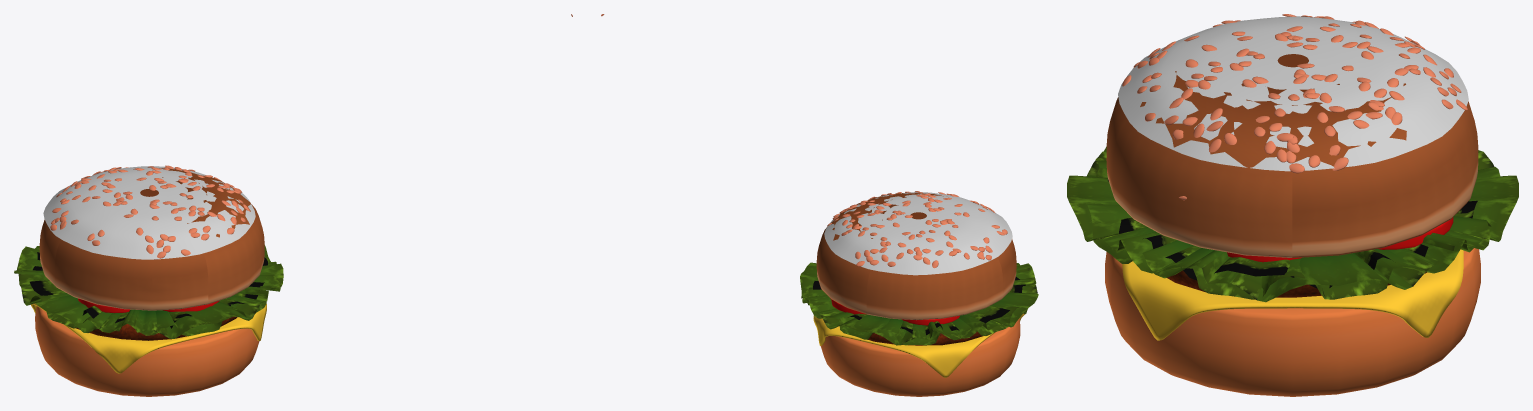
The model's file is hamburguerFinal.fbx.
3 renders of one model, left to right at view 1: azimuth 30°, elevation 25°; view 2: azimuth 150°, elevation 25°; view 3: azimuth 270°, elevation 25°, orthographic. The views are drawn at different scales.
Parts seen in each view (by area): view 1: top, topping_particle, buttom, veg.002, veg, chesse, veg.001, meat; view 2: top, topping_particle, buttom, veg.002, veg, chesse, veg.001, meat, totato; view 3: top, topping_particle, buttom, veg, chesse, veg.002, veg.001, totato, meat.
Boxes of the visible parts, x1,y1,x2,y2 form: top: [39, 168, 264, 310]; topping_particle: [43, 166, 255, 259]; buttom: [35, 306, 259, 396]; veg.002: [14, 245, 283, 336]; veg: [17, 246, 280, 338]; chesse: [31, 303, 266, 373]; veg.001: [30, 252, 267, 329]; meat: [76, 316, 237, 340]; top: [816, 193, 1016, 320]; topping_particle: [824, 192, 1012, 275]; buttom: [820, 318, 1020, 396]; veg.002: [800, 262, 1038, 345]; veg: [802, 263, 1036, 345]; chesse: [813, 313, 1024, 377]; veg.001: [813, 277, 1025, 335]; meat: [868, 331, 982, 345]; totato: [830, 298, 959, 325]; top: [1106, 54, 1478, 257]; topping_particle: [1118, 16, 1468, 171]; buttom: [1105, 248, 1480, 396]; veg: [1067, 150, 1518, 299]; chesse: [1122, 249, 1463, 340]; veg.002: [1085, 146, 1500, 302]; veg.001: [1107, 179, 1477, 288]; totato: [1227, 217, 1453, 262]; meat: [1167, 270, 1426, 297].
Size of the model in its own units: 500 by 254 by 233.
